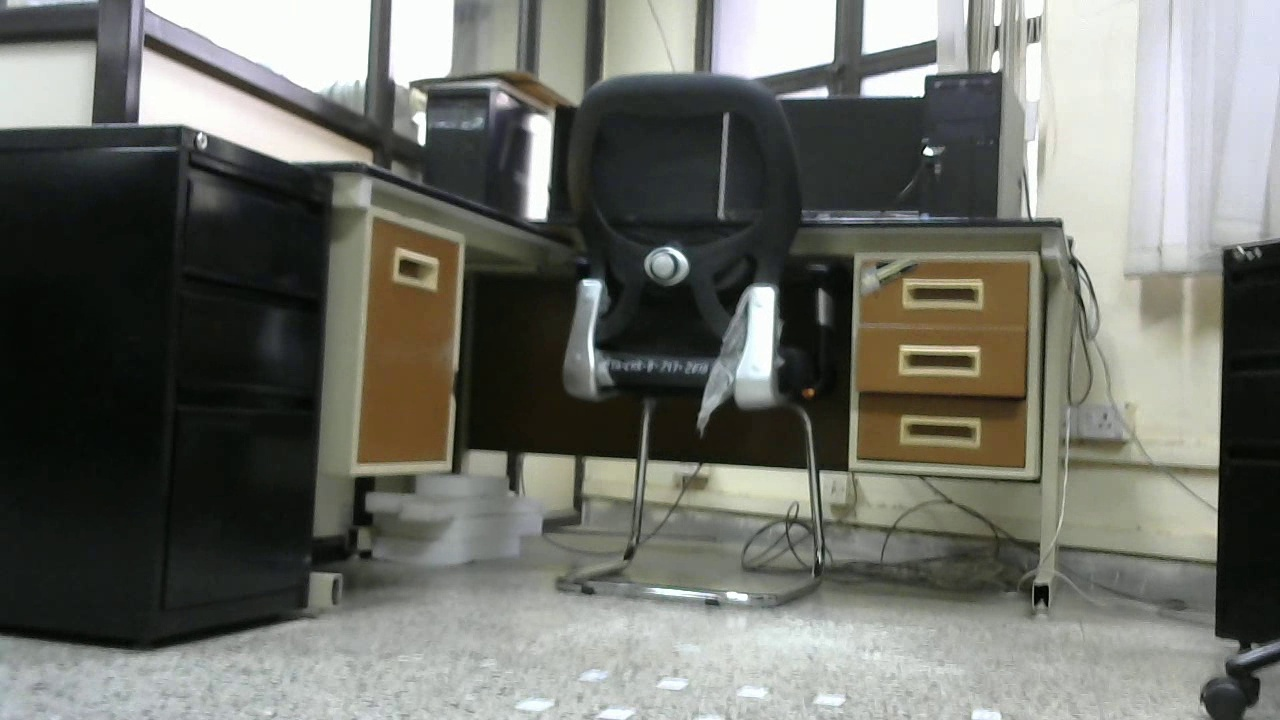chair: (554, 73, 822, 605)
